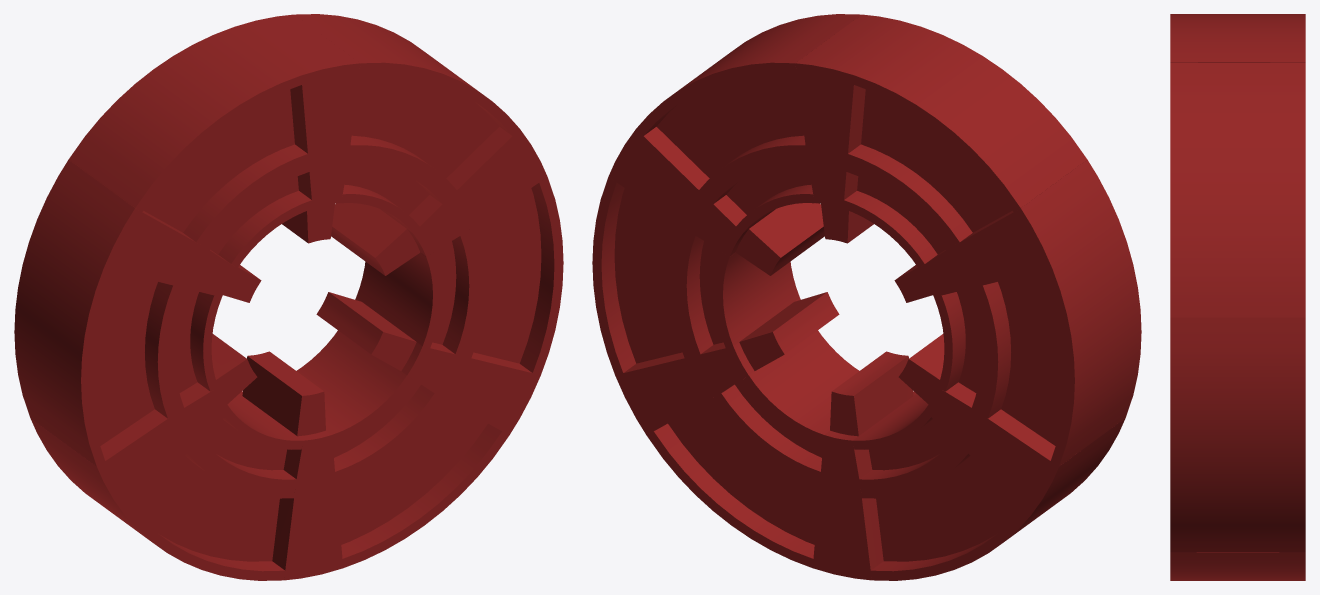
The model's file is cassette_spool1.glb.
3 views of the same model, side by side, from view 1: azimuth 30°, elevation 25°; view 2: azimuth 150°, elevation 25°; view 3: azimuth 270°, elevation 25° (orthographic).
Parts seen in each view (by area): view 1: Cylinder.001_Cylinder.001; view 2: Cylinder.001_Cylinder.001; view 3: Cylinder.001_Cylinder.001.
Part boxes in pixels (x1,y1,x2,y2): Cylinder.001_Cylinder.001: (14,14,563,580); Cylinder.001_Cylinder.001: (592,14,1141,580); Cylinder.001_Cylinder.001: (1170,14,1305,580).
Size of the model in its own units: 0.2274 by 0.2274 by 0.0544.
